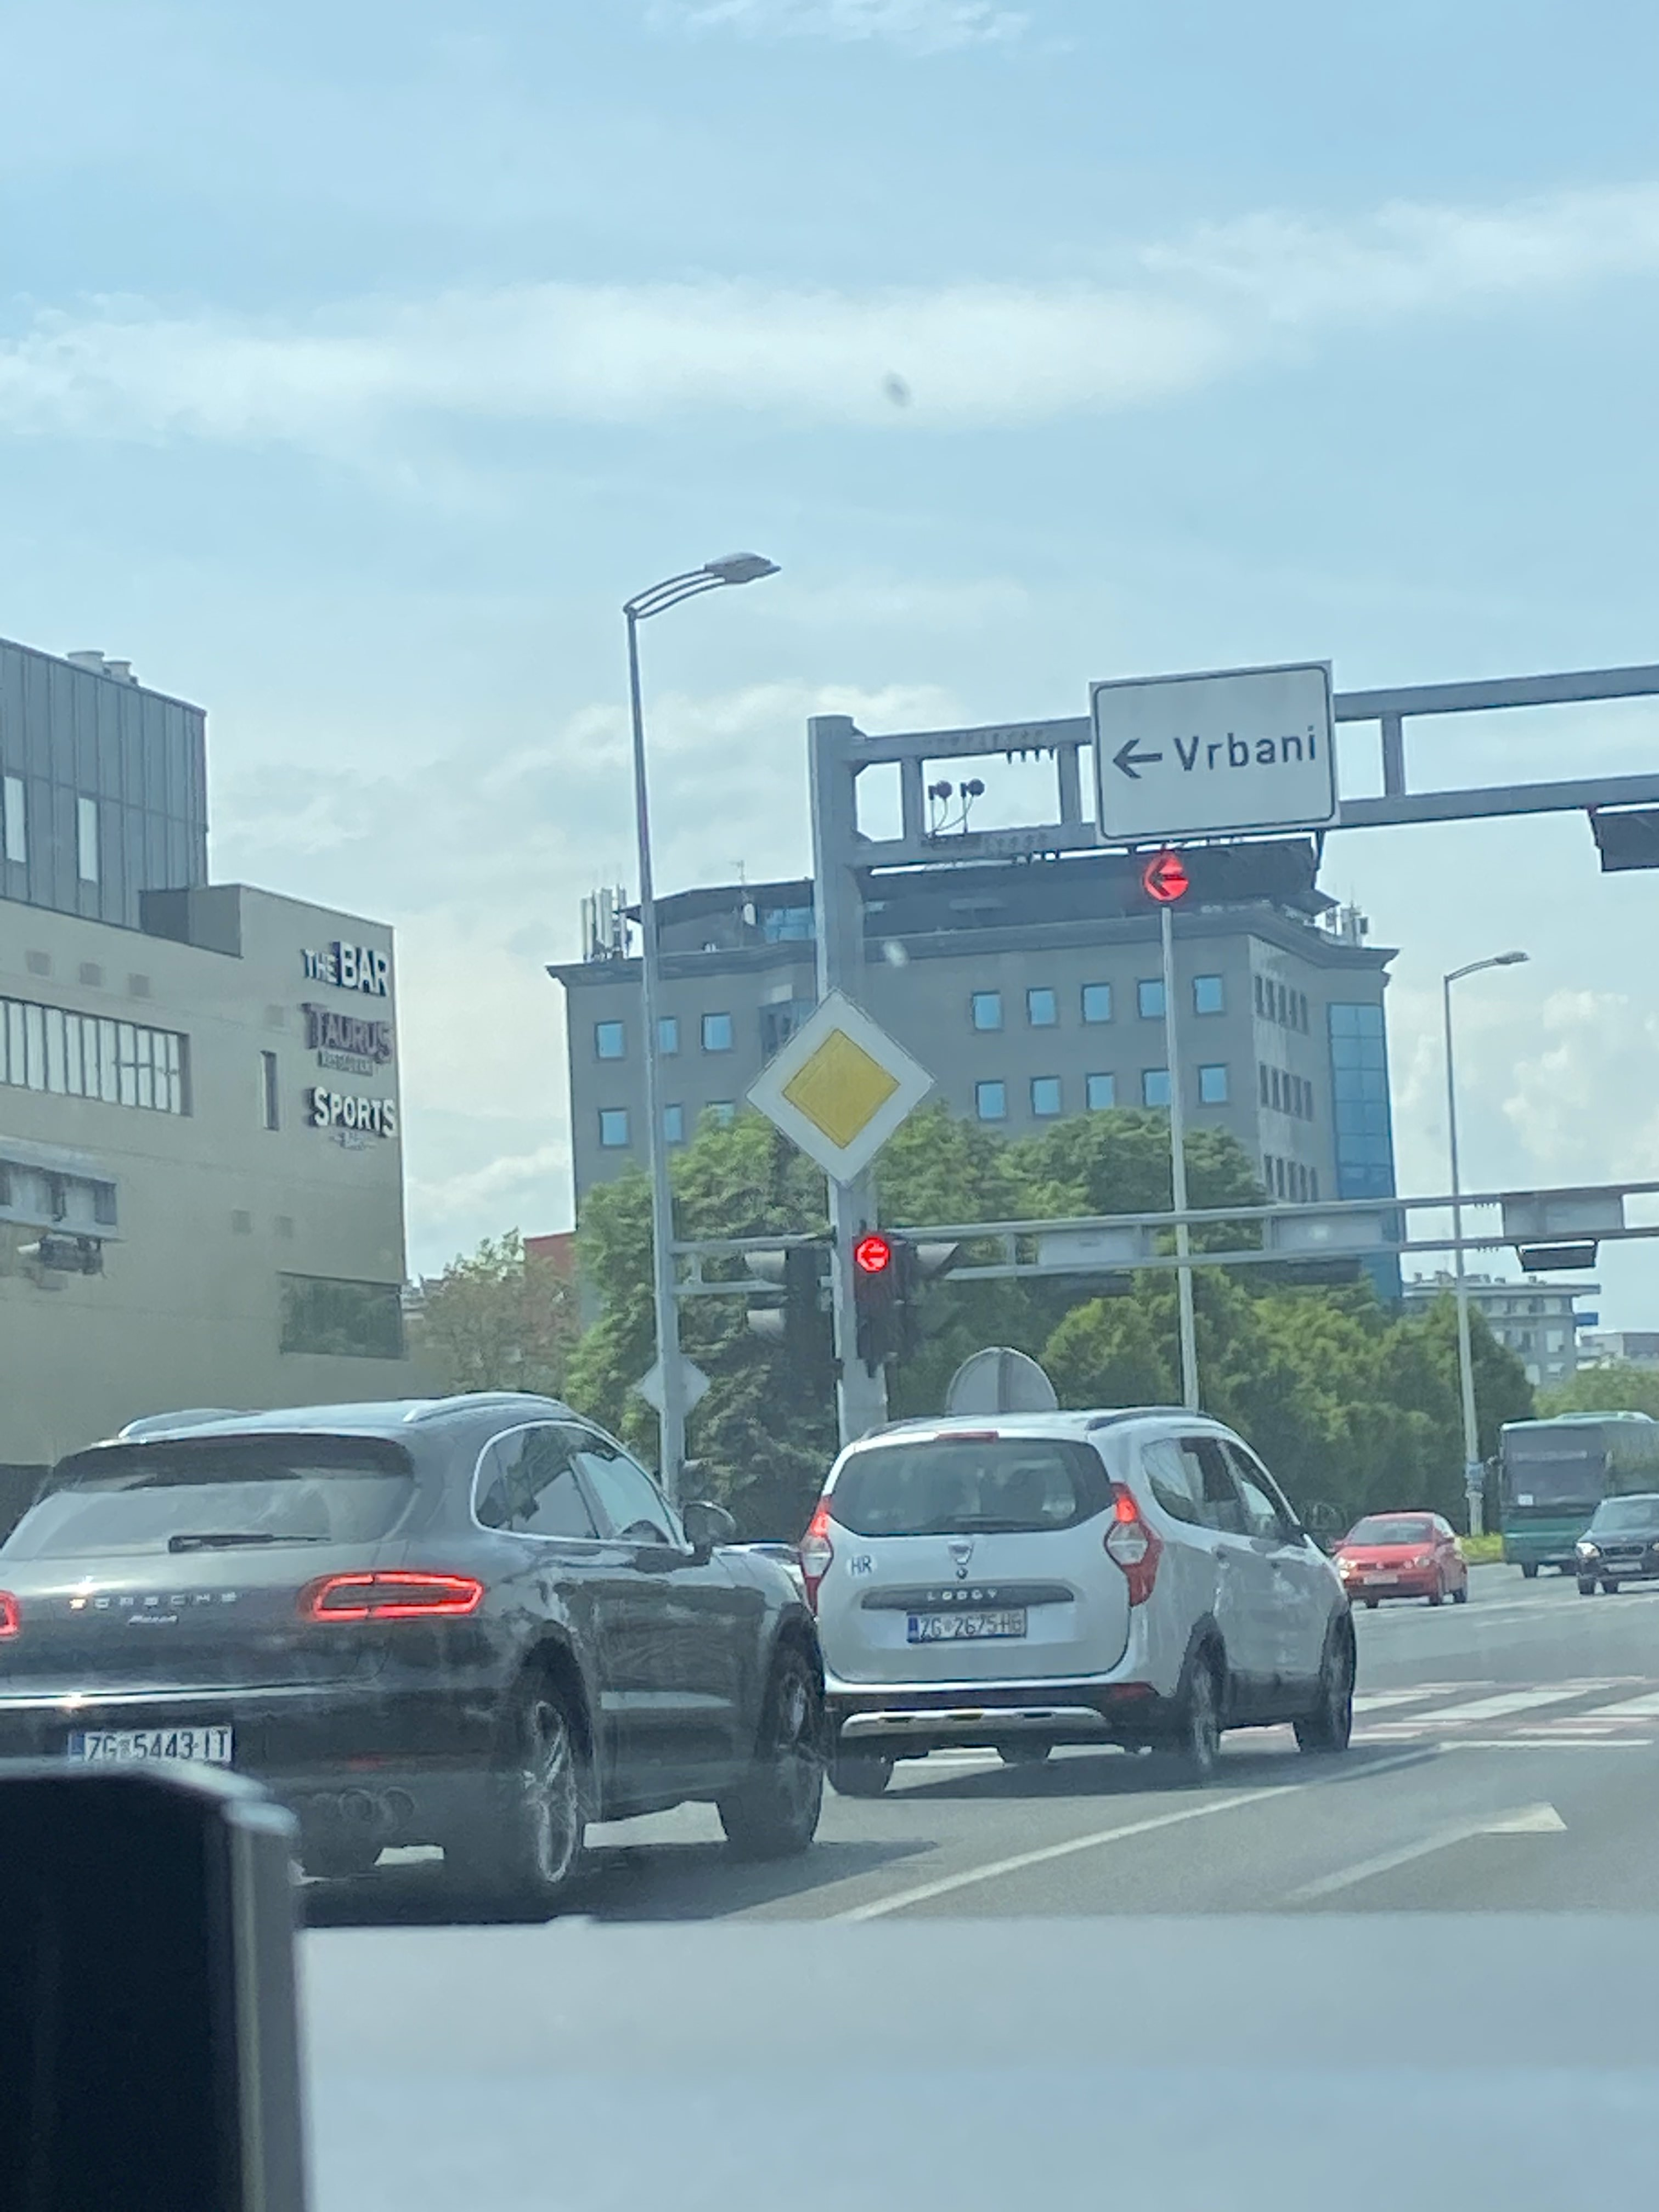Cesta s prednošću prolaska: (744, 986, 936, 1191)
